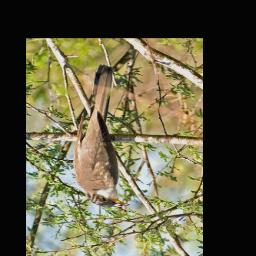Cuckoo: (73, 65, 129, 208)
